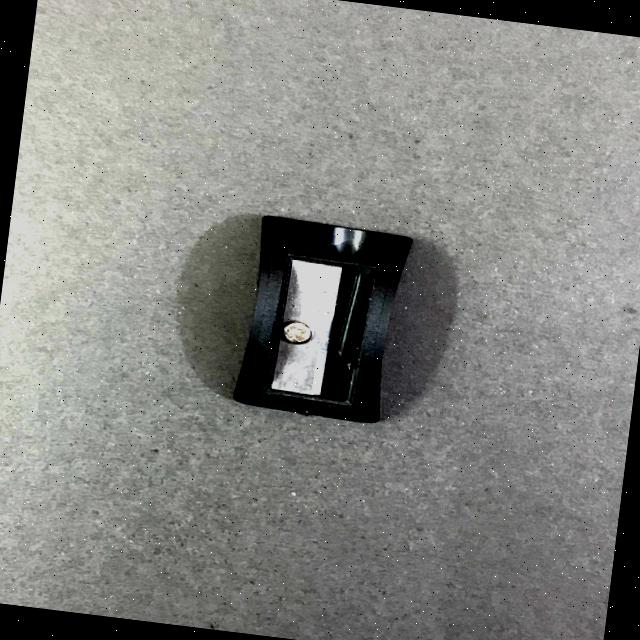Sharpner: (192, 178, 452, 464)
